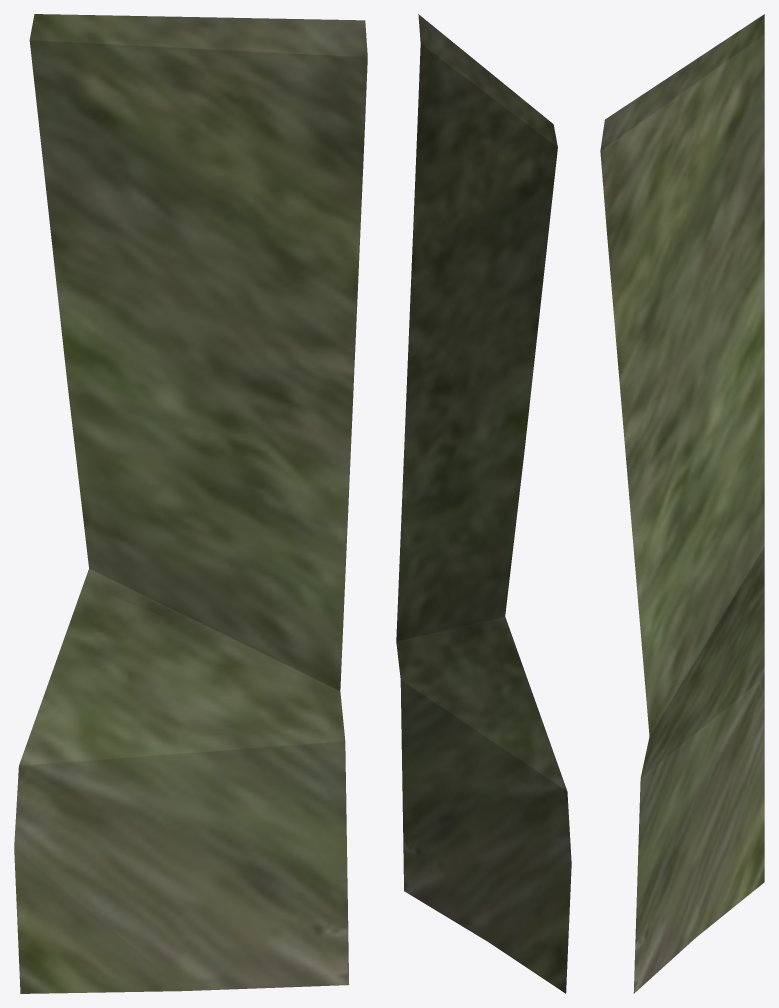
3 views of the same model, side by side, from view 1: azimuth 30°, elevation 25°; view 2: azimuth 150°, elevation 25°; view 3: azimuth 270°, elevation 25° (orthographic). The views are drawn at different scales.
Bounding box in the file's own units: 1.66 × 5.9 × 1.
1 material, 1 textured.
